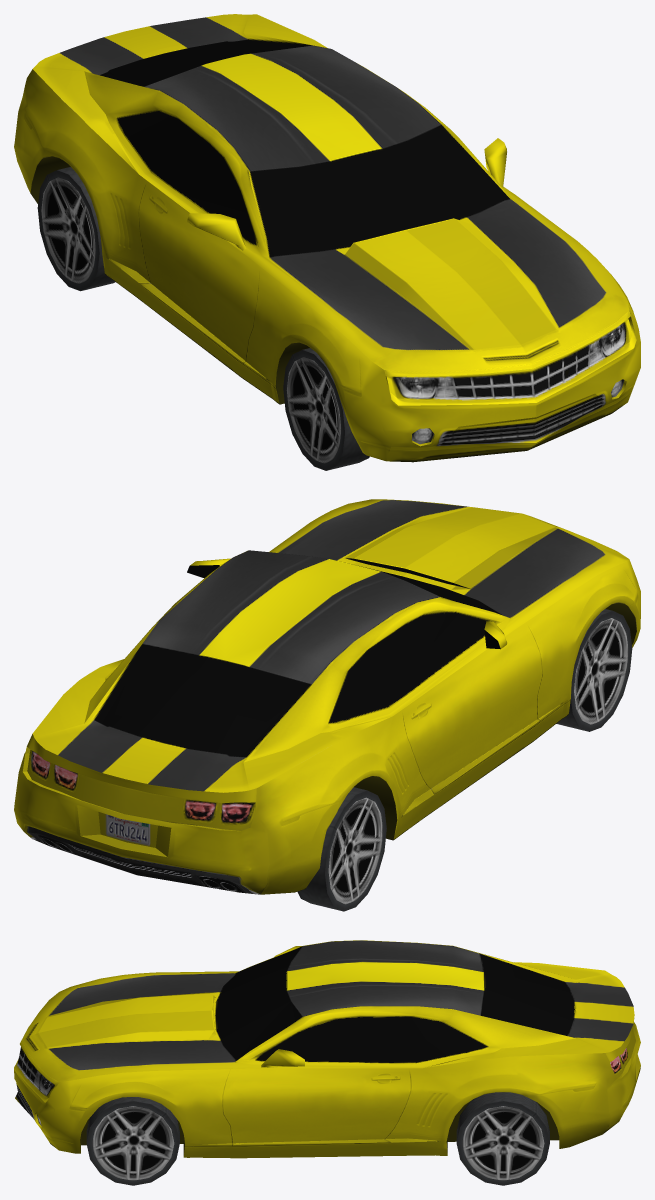
File: Chevvy Final.glb
3 views of the same model, one above another, from view 1: azimuth 30°, elevation 25°; view 2: azimuth 150°, elevation 25°; view 3: azimuth 270°, elevation 25° (orthographic). The views are drawn at different scales.
Parts seen in each view (by area): view 1: Object004_14 - Default_0, Object006_14 - Default_0, Object005_14 - Default_0; view 2: Object004_14 - Default_0, Object006_14 - Default_0, Object005_14 - Default_0; view 3: Object004_14 - Default_0, Object006_14 - Default_0, Object005_14 - Default_0.
Part boxes in pixels (left/top/right/bottom): Object004_14 - Default_0: left=14, top=14, right=640, bottom=462; Object006_14 - Default_0: left=37, top=167, right=369, bottom=470; Object005_14 - Default_0: left=187, top=138, right=506, bottom=250; Object004_14 - Default_0: left=14, top=499, right=640, bottom=894; Object006_14 - Default_0: left=297, top=609, right=632, bottom=911; Object005_14 - Default_0: left=187, top=558, right=506, bottom=649; Object004_14 - Default_0: left=14, top=940, right=640, bottom=1158; Object006_14 - Default_0: left=86, top=1092, right=549, bottom=1185; Object005_14 - Default_0: left=261, top=946, right=304, bottom=1067.
Size of the model in its own units: 92.26 by 60.1 by 212.
Materials: 1 (1 with a texture image).
